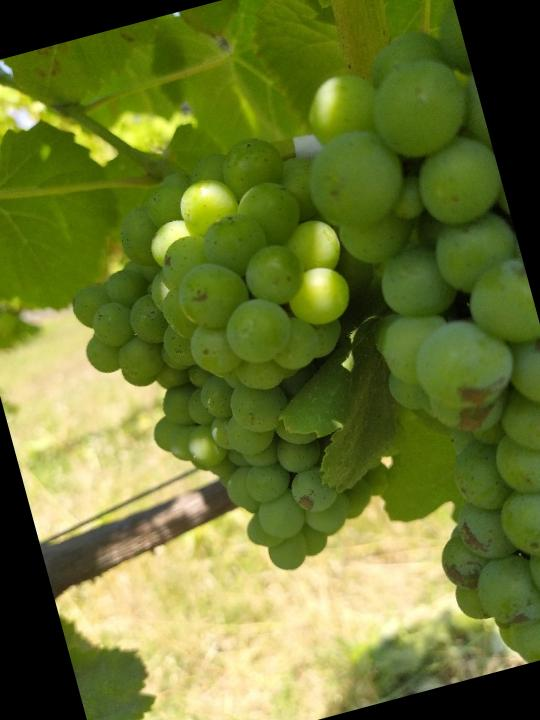grape: (38, 127, 407, 614)
